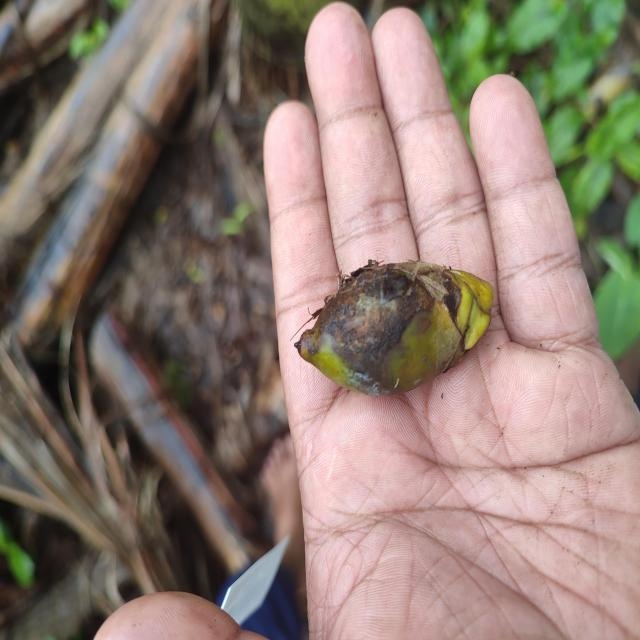damaged: (297, 263, 496, 398)
